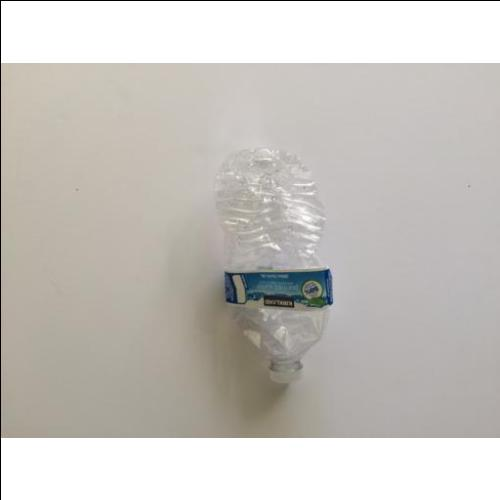plastic: (214, 147, 334, 385)
